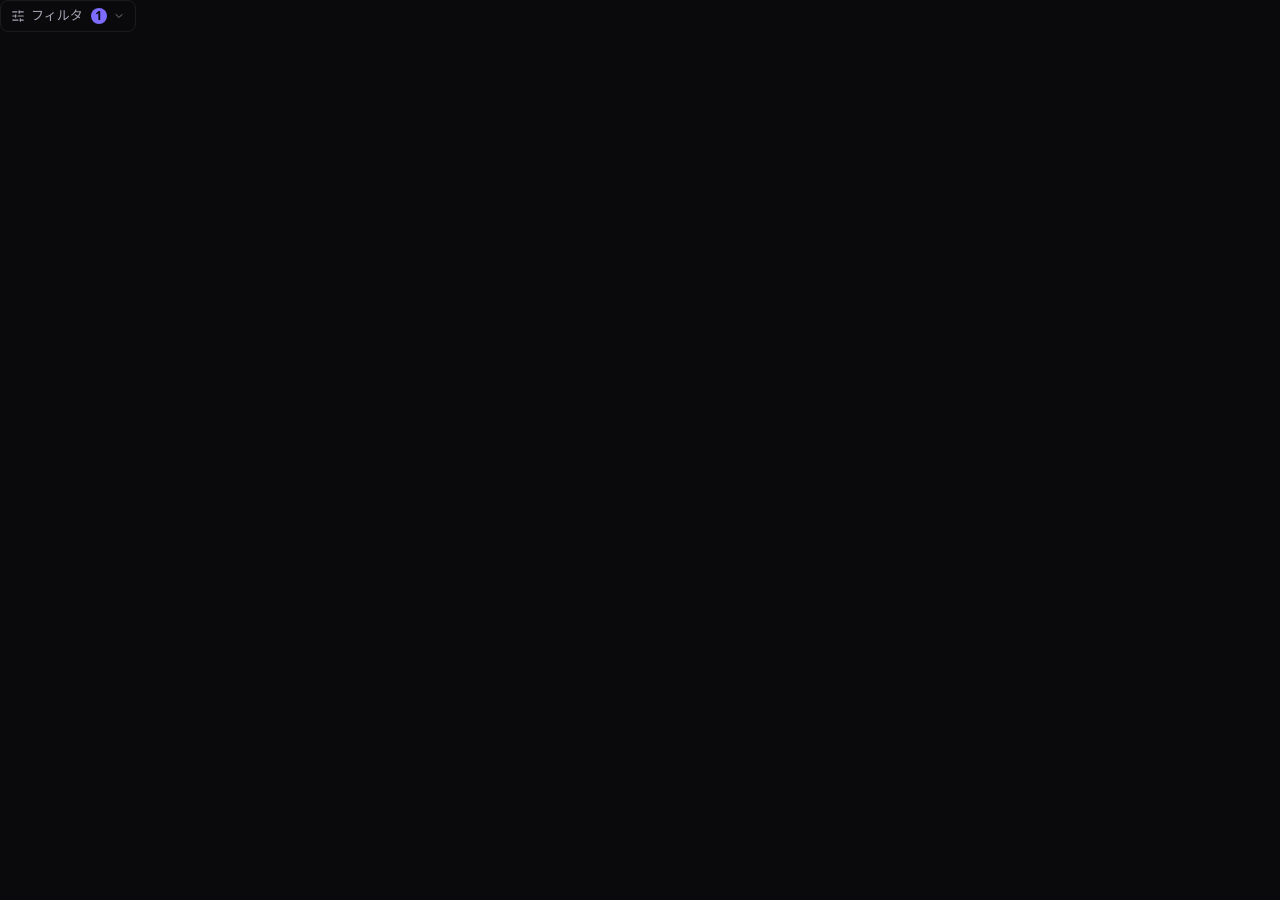
Scenario: #96 ツールバー › 外側クリックでも閉じる
The width and height of the screenshot is (1280, 900).
Step 1. Click the button with aria-label "フィルタ（1 件適用中）" → x=68, y=16, box 0,0 -> 136,32
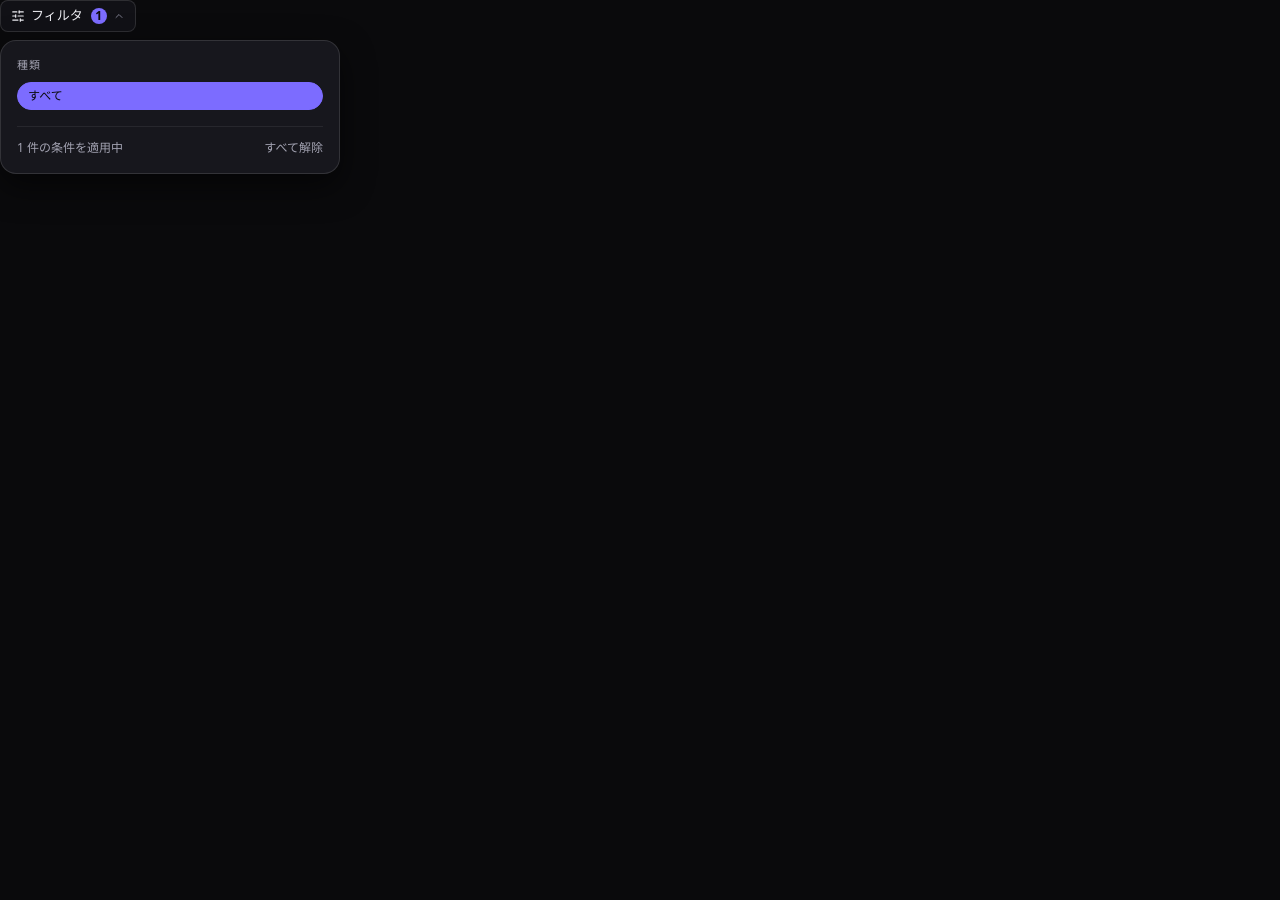
expect the dialog named "絞り込み" is shown: met, box 0,40 -> 340,174
Step 2. Press the mouse on the element showing "フィルタ 1 種類 すべて 1 件の条件を適用中 すべて解除" → x=640, y=450, box 0,0 -> 1279,899
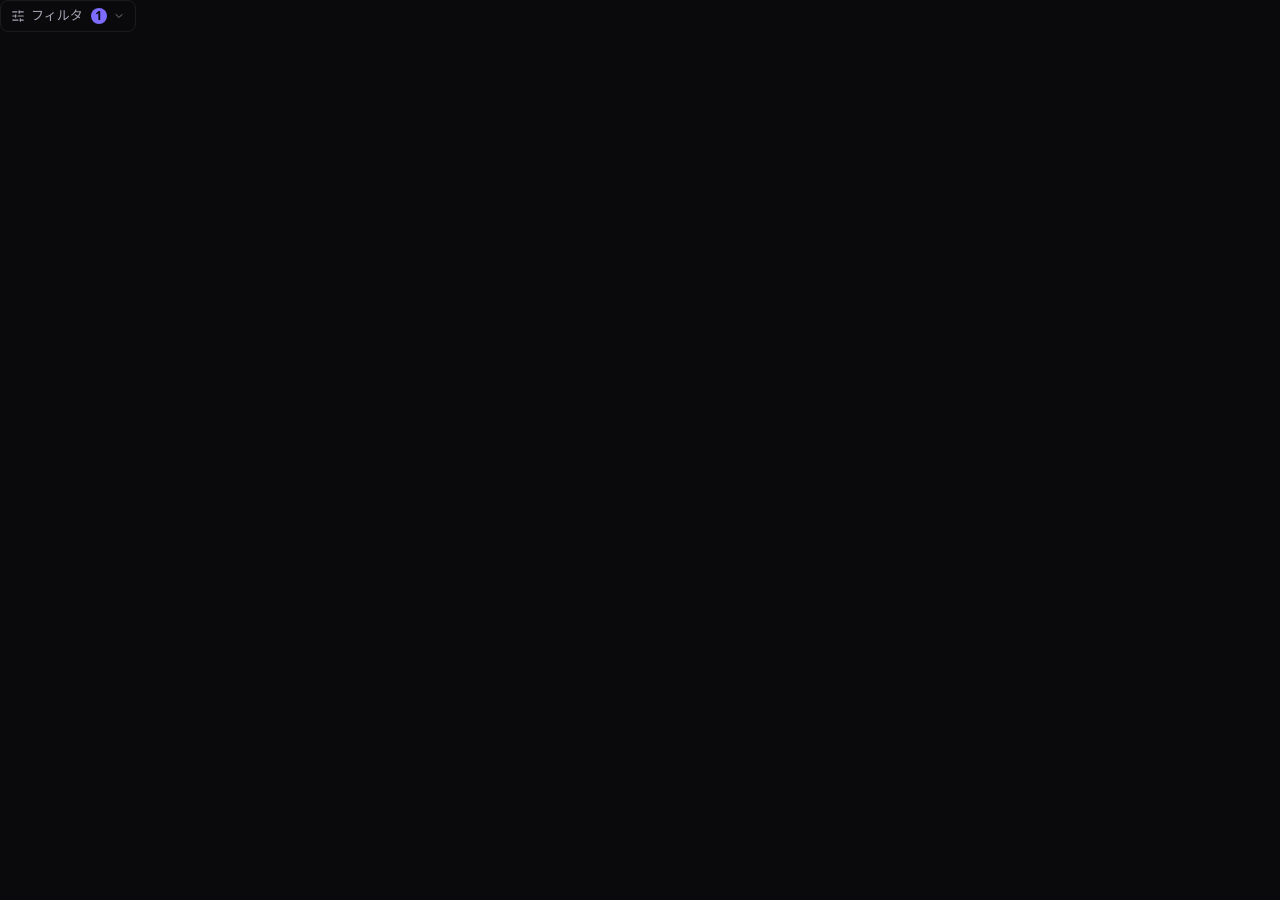
expect the dialog "絞り込み" is gone: met
